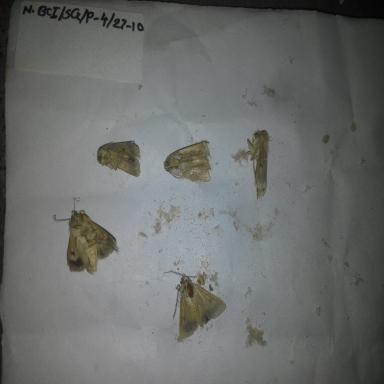abw: (50, 193, 122, 278), (161, 266, 228, 342), (160, 137, 216, 190), (237, 125, 274, 203), (94, 133, 144, 182)
